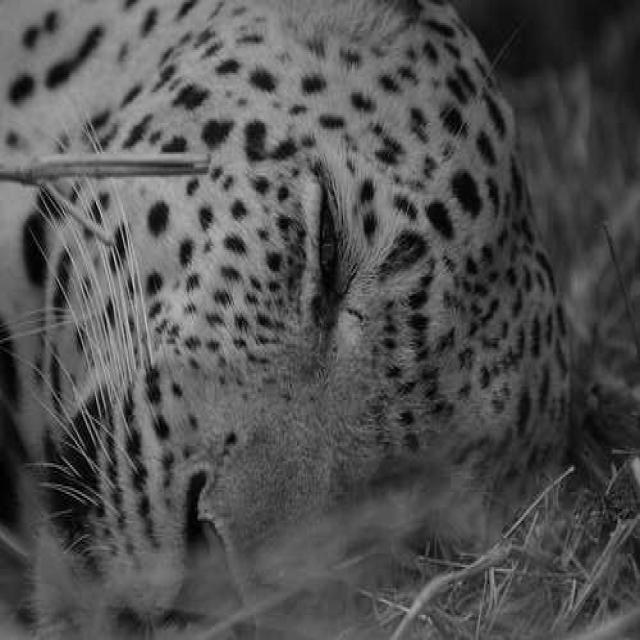Leopard: (0, 0, 582, 636)
